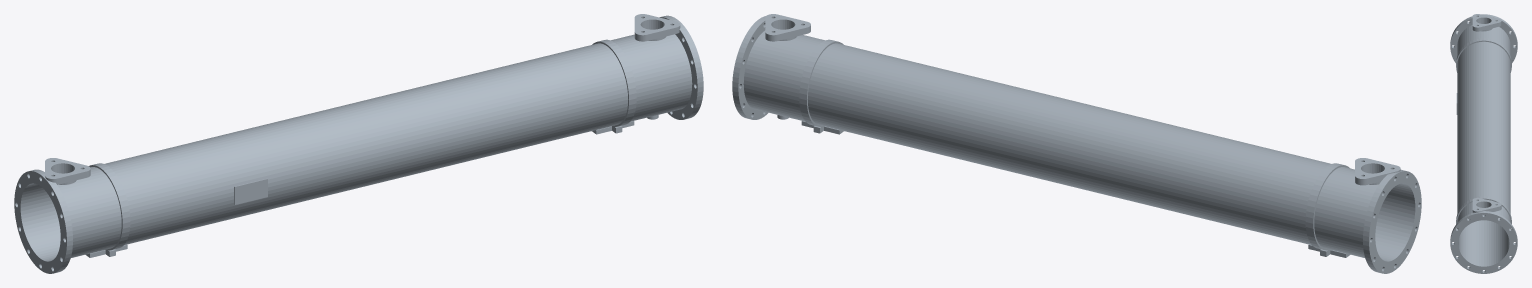
Rendered from 1_Shell_Cast.glb.
3 views of the same model, side by side, from view 1: azimuth 30°, elevation 25°; view 2: azimuth 150°, elevation 25°; view 3: azimuth 270°, elevation 25° (orthographic). The views are drawn at different scales.
Visible parts, largest first — view 1: geometry_0; view 2: geometry_0; view 3: geometry_0.
Part boxes in pixels (left/top/right/bottom): geometry_0: left=14, top=14, right=703, bottom=273; geometry_0: left=732, top=14, right=1421, bottom=273; geometry_0: left=1450, top=14, right=1517, bottom=273.
Size of the model in its own units: 1.99 by 0.2875 by 0.285.
